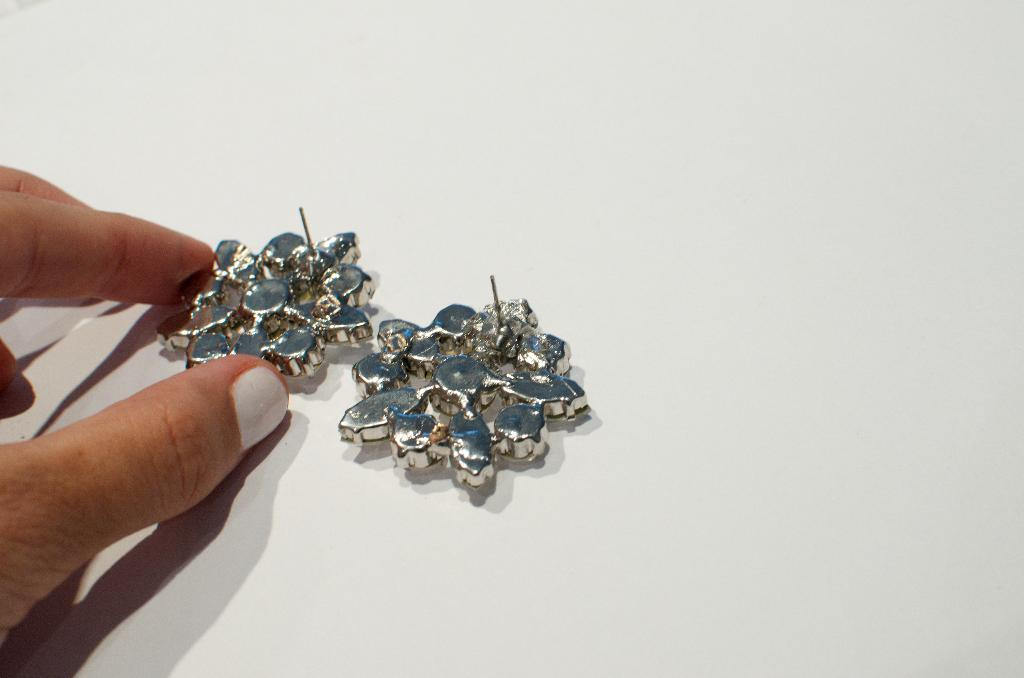earrings: (335, 271, 592, 490)
